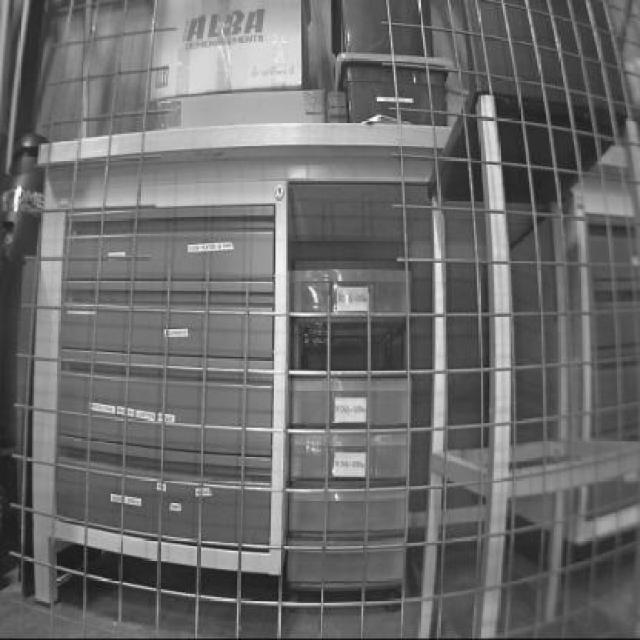fence line: (154, 14, 408, 295)
